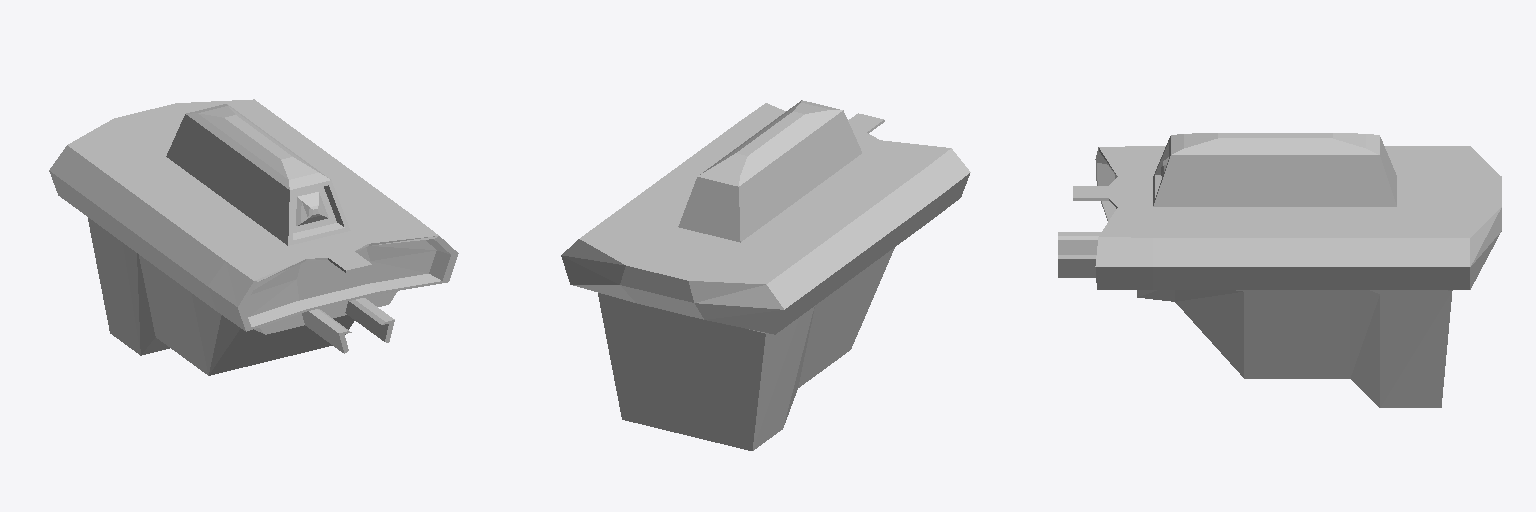
File: spikerenemy-v1.obj
3 renders of one model, left to right at view 1: azimuth 30°, elevation 25°; view 2: azimuth 150°, elevation 25°; view 3: azimuth 270°, elevation 25°, orthographic.
Parts seen in each view (by area): view 1: Spiker_Enemy; view 2: Spiker_Enemy; view 3: Spiker_Enemy.
Boxes of the visible parts, box(x1,y1,x2,y2) form: Spiker_Enemy: box(49, 99, 458, 375); Spiker_Enemy: box(561, 100, 970, 450); Spiker_Enemy: box(1058, 133, 1501, 407).
Size of the model in its own units: 8.68 by 8.95 by 14.93.